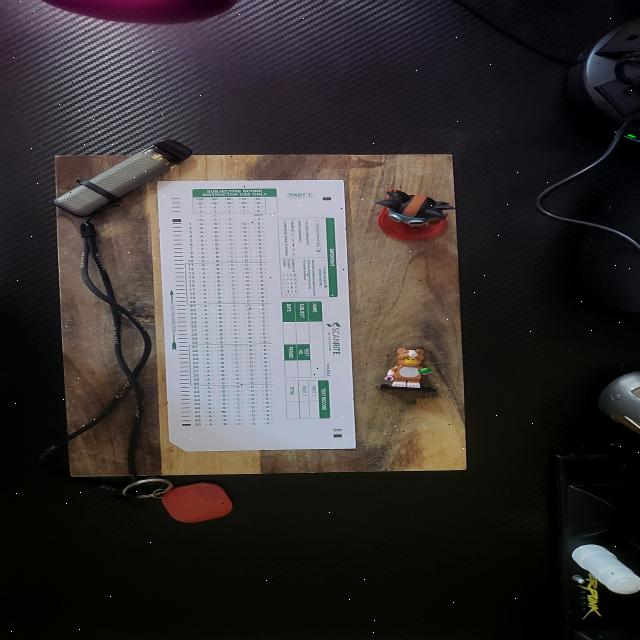scantron: (159, 180, 356, 452)
